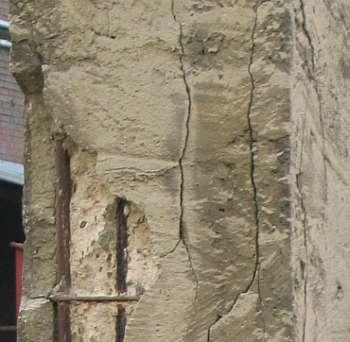exposed_rebar: (50, 131, 139, 341)
spalling: (9, 39, 162, 342)
